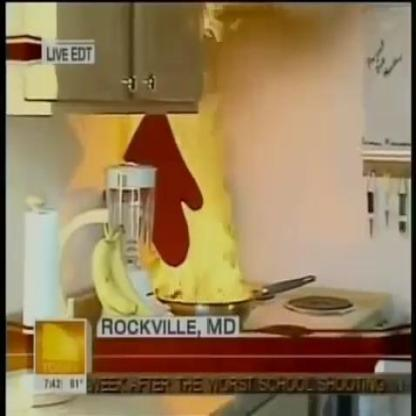fire: (125, 93, 254, 302)
